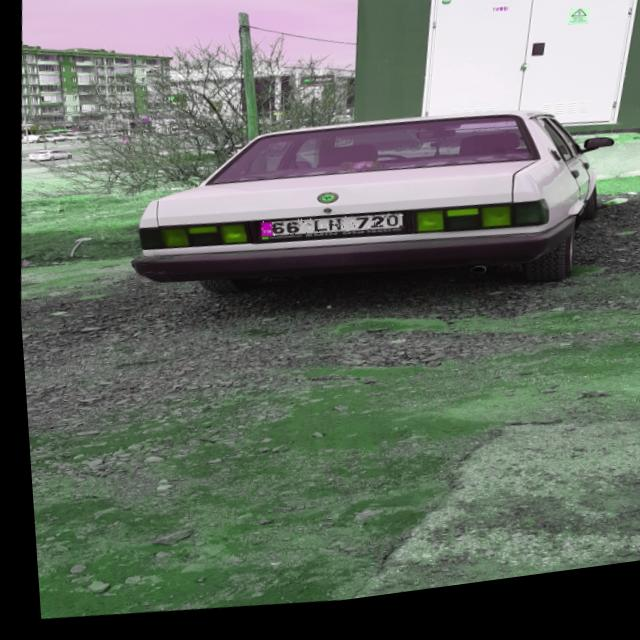plate: (256, 213, 401, 253)
